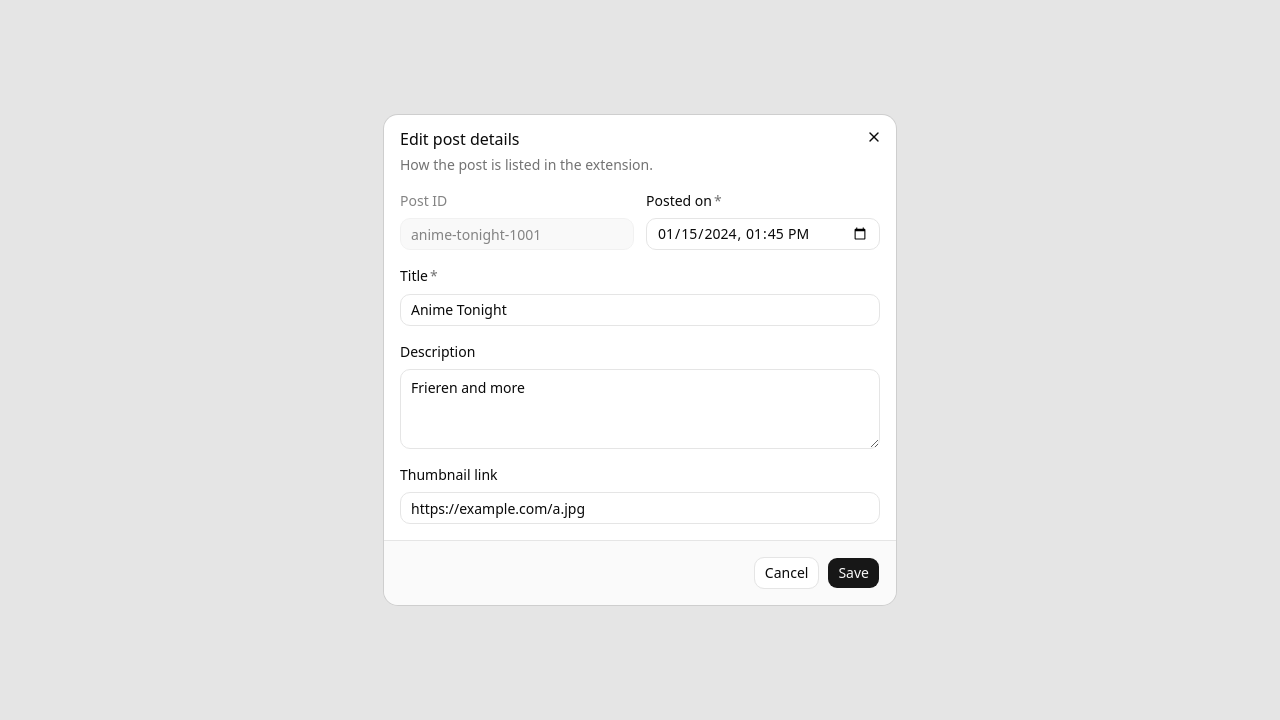
it: postDetailsDialog › asks for a date under the field, without saving
This screenshot has width=1280, height=720.
Clear the field labelled "Posted on *": (763, 234) [646,218,880,250]
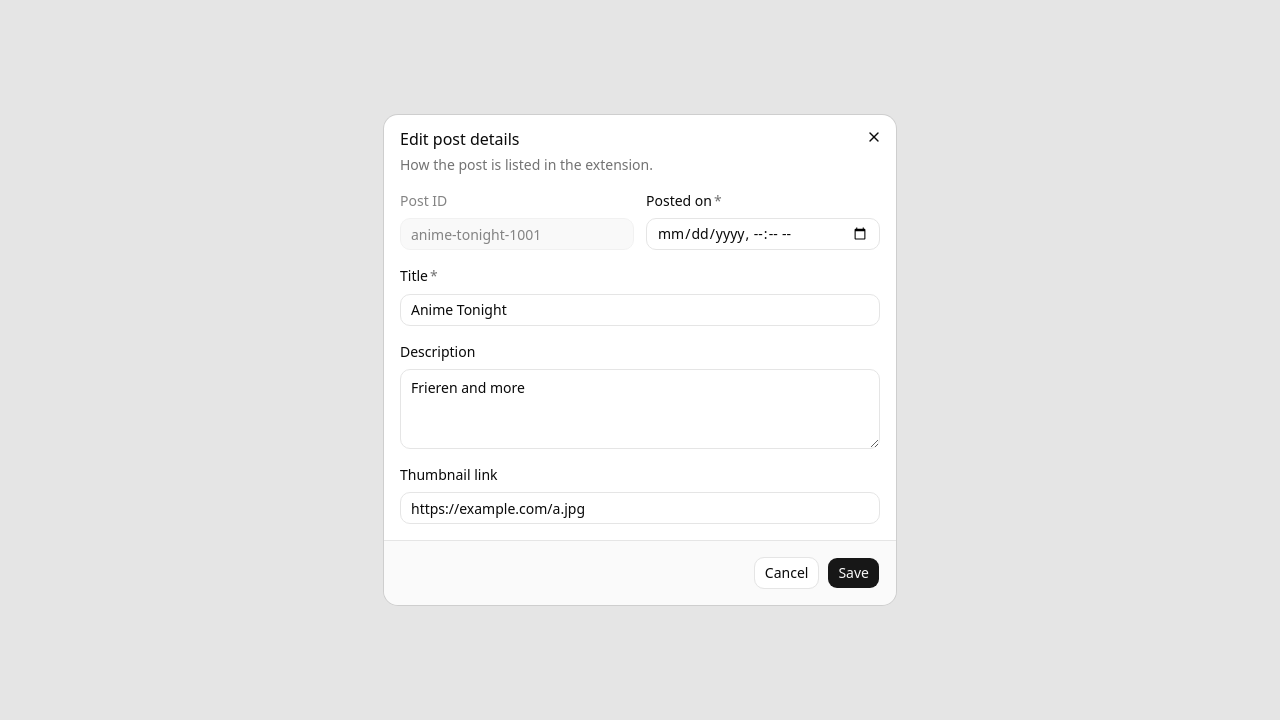
Click the button "Save": (854, 573) [827,557,880,589]
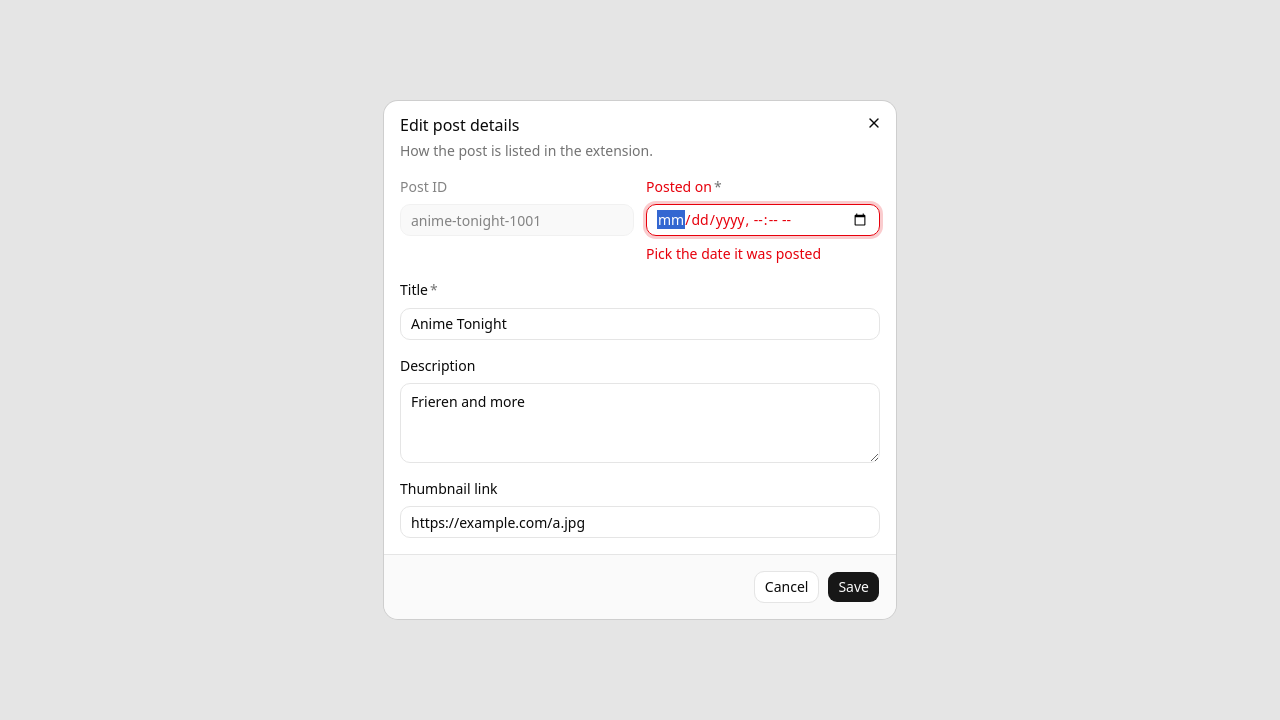
Check: the element showing "Posted on * Pick the date it was posted" is shown, box [646,177,880,264]
Check: the message reads "Pick the date it was posted", box [646,244,821,263]
